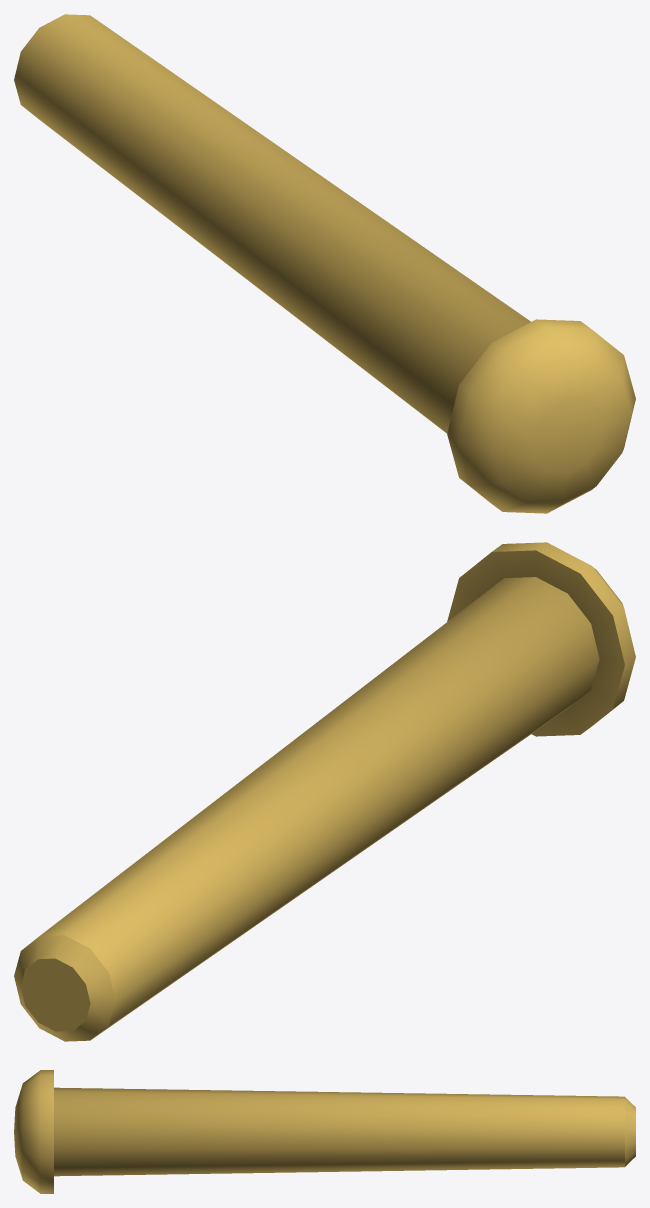
Rendered from pin_taper_2.glb.
3 views of the same model, one above another, from view 1: azimuth 30°, elevation 25°; view 2: azimuth 150°, elevation 25°; view 3: azimuth 270°, elevation 25° (orthographic). The views are drawn at different scales.
Visible parts, largest first — view 1: Pin_Taper2; view 2: Pin_Taper2; view 3: Pin_Taper2.
Boxes of the visible parts, box(x1,y1,x2,y2) form: Pin_Taper2: box(14, 14, 635, 513); Pin_Taper2: box(14, 542, 635, 1041); Pin_Taper2: box(14, 1070, 635, 1193).
Bounding box in the file's own units: 0.0028 × 0.0028 × 0.014.
